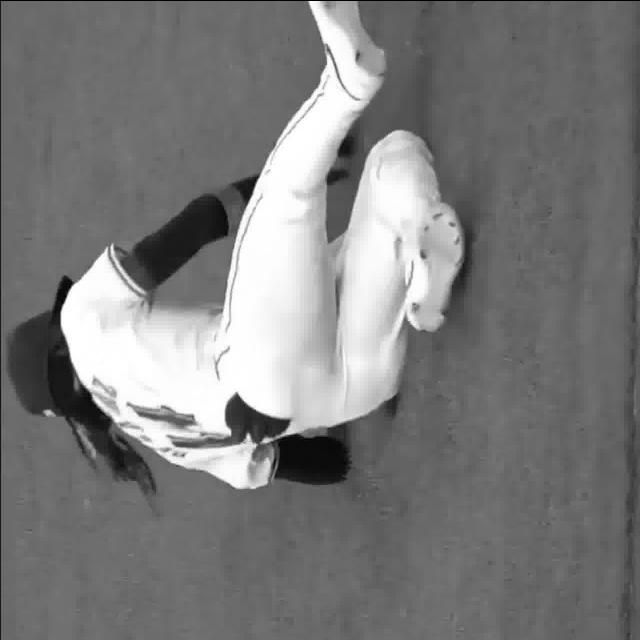shoe: (403, 203, 468, 335), (310, 0, 389, 97)
